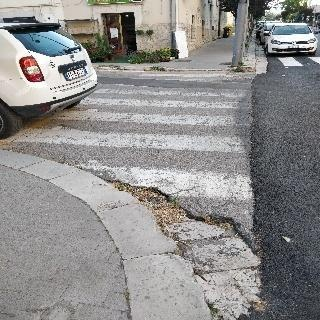road_crosswalk: (99, 74, 251, 195)
